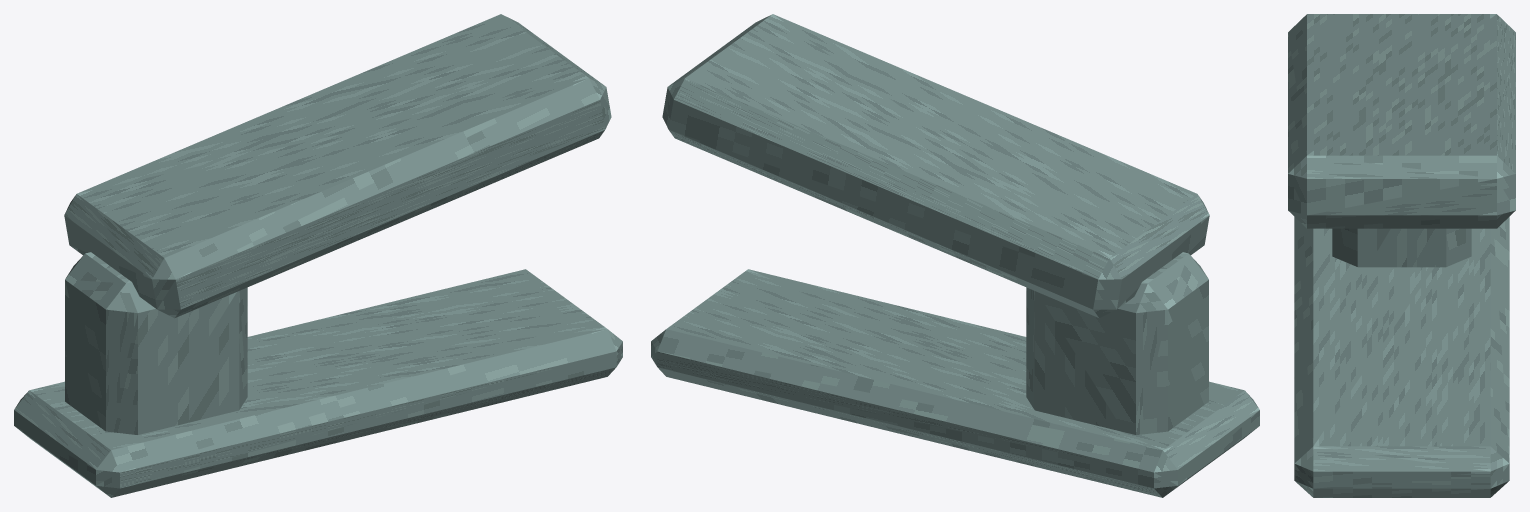
Rendered from office_holepunch.glb.
3 views of the same model, side by side, from view 1: azimuth 30°, elevation 25°; view 2: azimuth 150°, elevation 25°; view 3: azimuth 270°, elevation 25° (orthographic). The views are drawn at different scales.
Visible parts, largest first — view 1: block_spring-loaded lever, block_paper guide base, block_single punch housing; view 2: block_spring-loaded lever, block_paper guide base, block_single punch housing; view 3: block_paper guide base, block_spring-loaded lever, block_single punch housing.
Part boxes in pixels (x1=…): block_spring-loaded lever: x1=64, y1=14, x2=611, y2=318; block_paper guide base: x1=14, y1=269, x2=622, y2=497; block_single punch housing: x1=65, y1=252, x2=247, y2=434; block_spring-loaded lever: x1=662, y1=14, x2=1209, y2=318; block_paper guide base: x1=651, y1=269, x2=1259, y2=497; block_single punch housing: x1=1026, y1=252, x2=1208, y2=434; block_paper guide base: x1=1294, y1=217, x2=1509, y2=497; block_spring-loaded lever: x1=1288, y1=14, x2=1515, y2=228; block_single punch housing: x1=1332, y1=228, x2=1471, y2=267.
Bounding box in the file's own units: 0.104 × 0.0577 × 0.036.
Materials: 1 (1 with a texture image).
